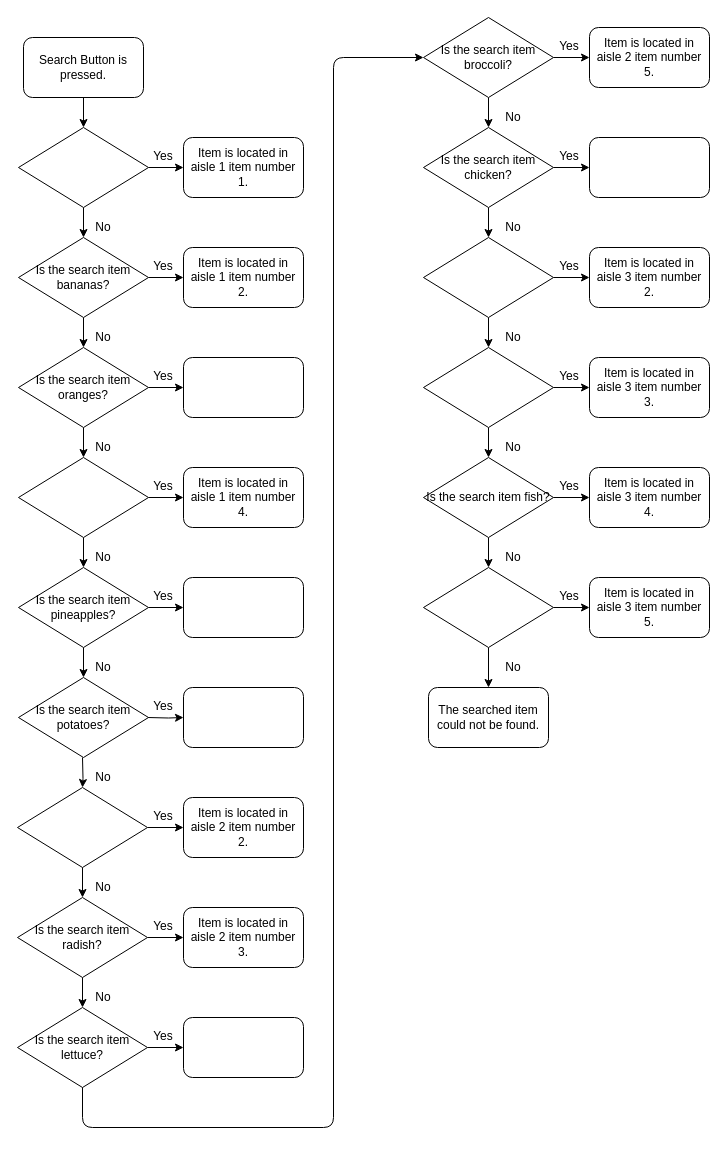
This 727x1153 diagram has some shape labels left out. Each missing label, with the centre of its shape:
Is the search item apples?: the point at 83,167
Is the search item beef?: the point at 488,277
Is the search item carrots?: the point at 82,827
Is the search item condiments?: the point at 488,607
Is the search item peaches?: the point at 83,497
Is the search item pork?: the point at 488,387
Item is located in aisle 1 item number 3.: the point at 243,387
Item is located in aisle 1 item number 5.: the point at 243,607
Item is located in aisle 2 item number 1.: the point at 243,717
Item is located in aisle 2 item number 4.: the point at 243,1047
Item is located in aisle 3 item number 1.: the point at 649,167
